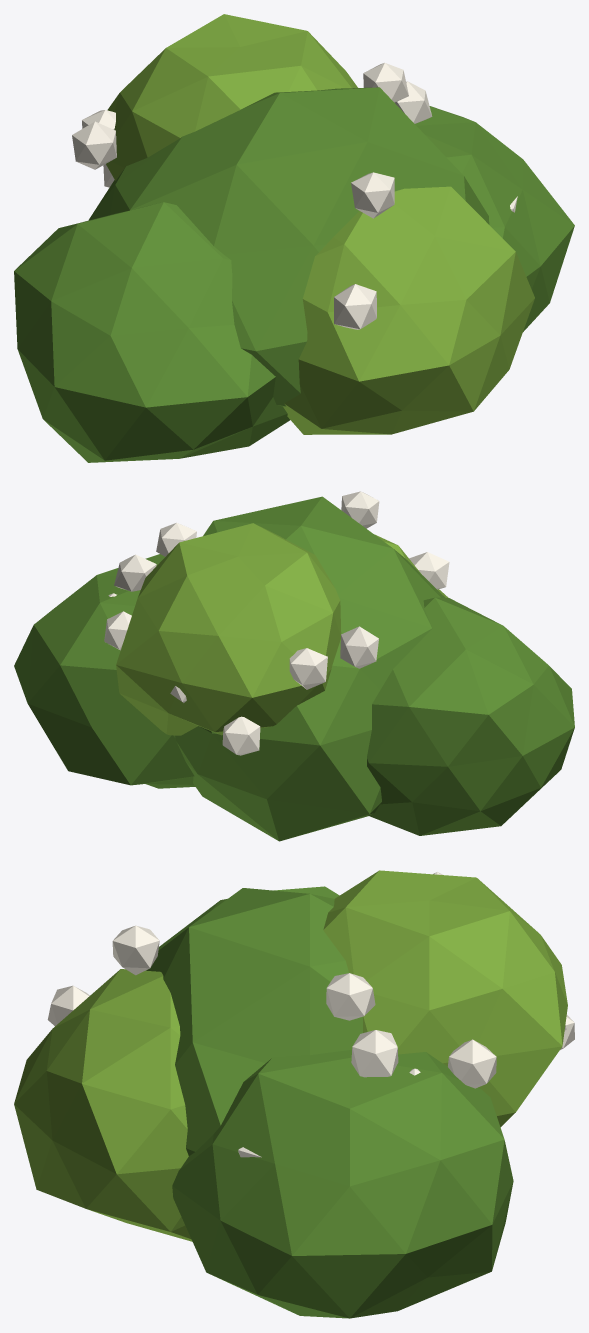
Rendered from Tree_Bush_Flowering.fbx.
3 renders of one model, top to bottom at view 1: azimuth 30°, elevation 25°; view 2: azimuth 150°, elevation 25°; view 3: azimuth 270°, elevation 25°, orthographic. The views are drawn at different scales.
Visible parts, largest first — view 1: Tree_Bush_Flowering; view 2: Tree_Bush_Flowering; view 3: Tree_Bush_Flowering.
Boxes of the visible parts, left/top/right/bottom form: Tree_Bush_Flowering: left=14, top=14, right=574, bottom=462; Tree_Bush_Flowering: left=14, top=491, right=574, bottom=841; Tree_Bush_Flowering: left=14, top=870, right=574, bottom=1318.
Bounding box in the file's own units: 1.74 × 0.9781 × 1.41.
